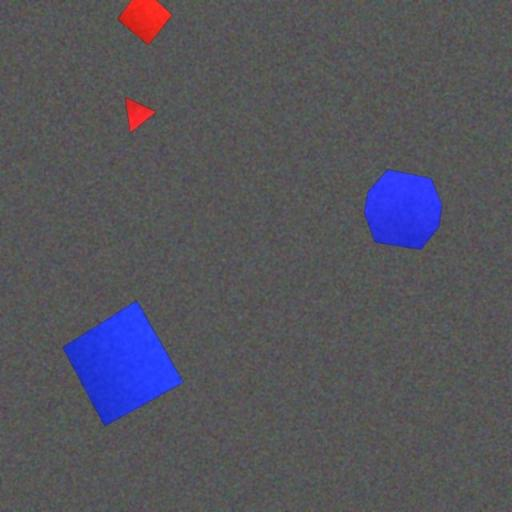BLUE_SQUARE: (62, 300, 184, 427)
RED_SQUARE: (117, 0, 173, 46)
